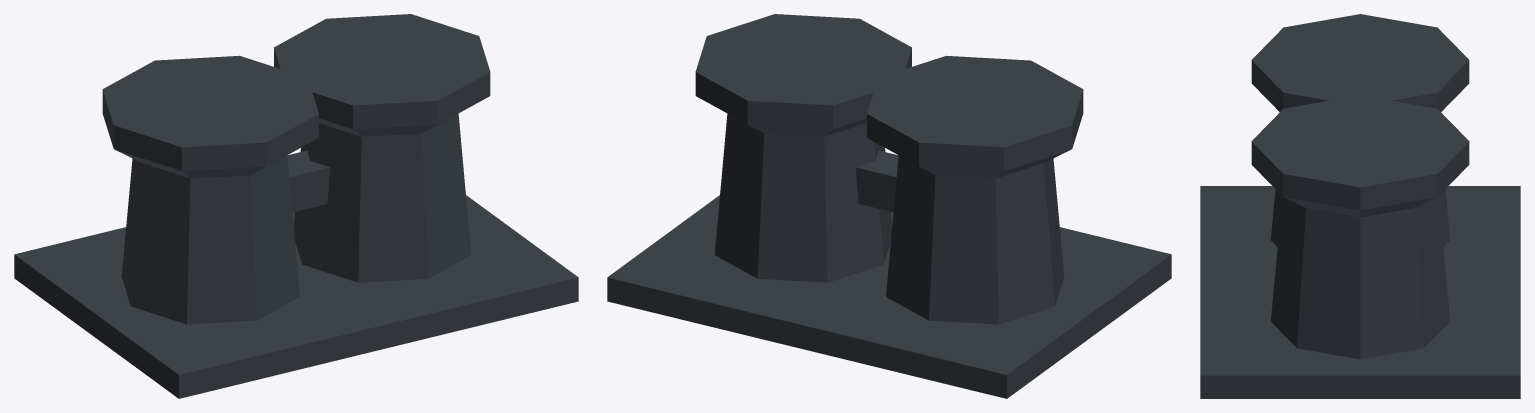
The model's file is quay-bollard.glb.
3 views of the same model, side by side, from view 1: azimuth 30°, elevation 25°; view 2: azimuth 150°, elevation 25°; view 3: azimuth 270°, elevation 25° (orthographic). The views are drawn at different scales.
Visible parts, largest first — view 1: bollard; view 2: bollard; view 3: bollard.
Boxes of the visible parts, bbox=[...] form: bollard: bbox=[14, 14, 578, 398]; bollard: bbox=[607, 14, 1171, 398]; bollard: bbox=[1200, 14, 1520, 398].
Bounding box in the file's own units: 1.4 × 0.7001 × 1.
Materials: 1 (1 with a texture image).
